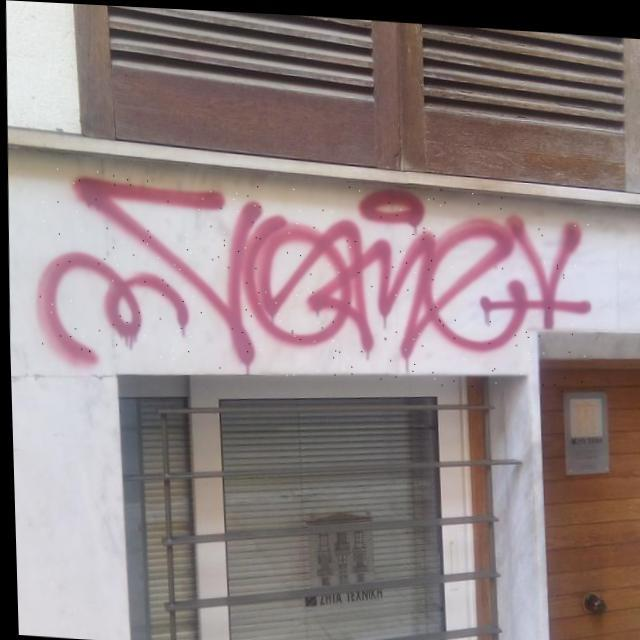-: (32, 162, 592, 392)
